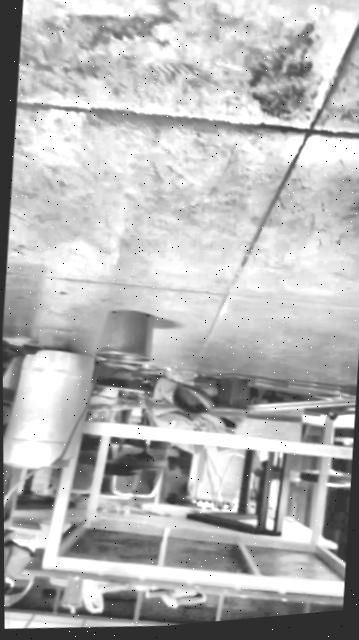pot: (91, 306, 155, 370)
